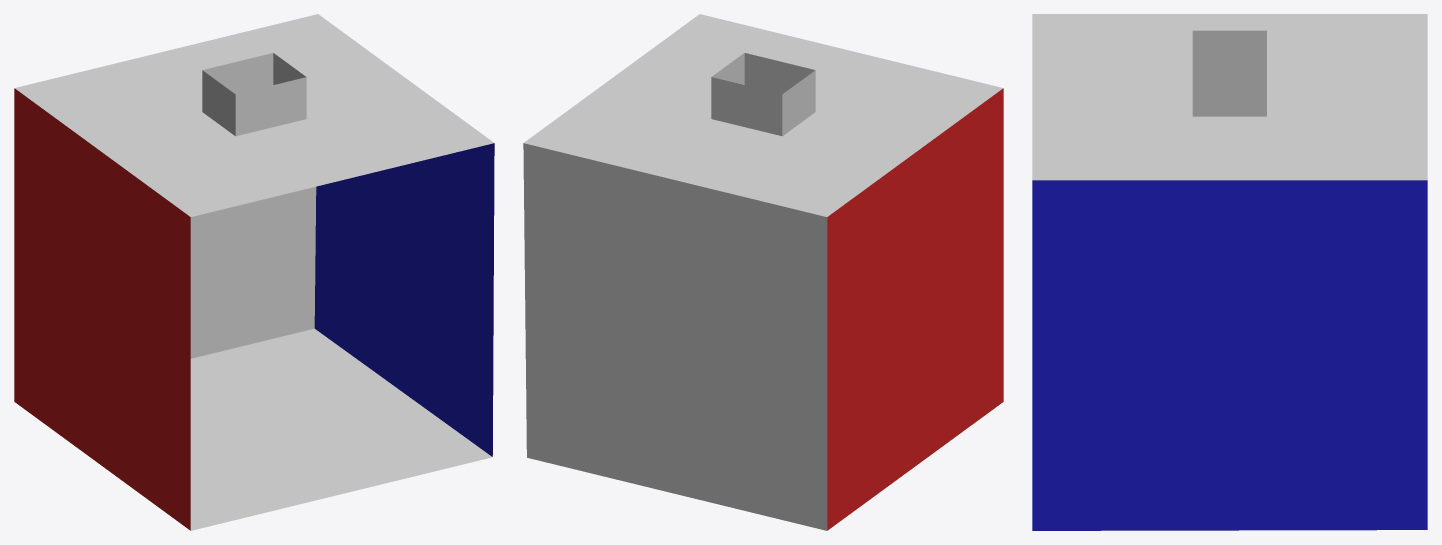
File: cornellbox_spheres2.DAE
3 renders of one model, left to right at view 1: azimuth 30°, elevation 25°; view 2: azimuth 150°, elevation 25°; view 3: azimuth 270°, elevation 25°, orthographic. The views are drawn at different scales.
Parts seen in each view (by area): view 1: object2, object4, object3; view 2: object2, object4; view 3: object3, object2.
Part boxes in pixels (x1=…): object2: x1=14, y1=14, x2=493, y2=530; object4: x1=14, y1=88, x2=190, y2=530; object3: x1=314, y1=143, x2=494, y2=456; object2: x1=523, y1=14, x2=1003, y2=530; object4: x1=827, y1=88, x2=1003, y2=530; object3: x1=1032, y1=180, x2=1427, y2=530; object2: x1=1032, y1=14, x2=1427, y2=180.
Bounding box in the file's own units: 556 × 559 × 622.
